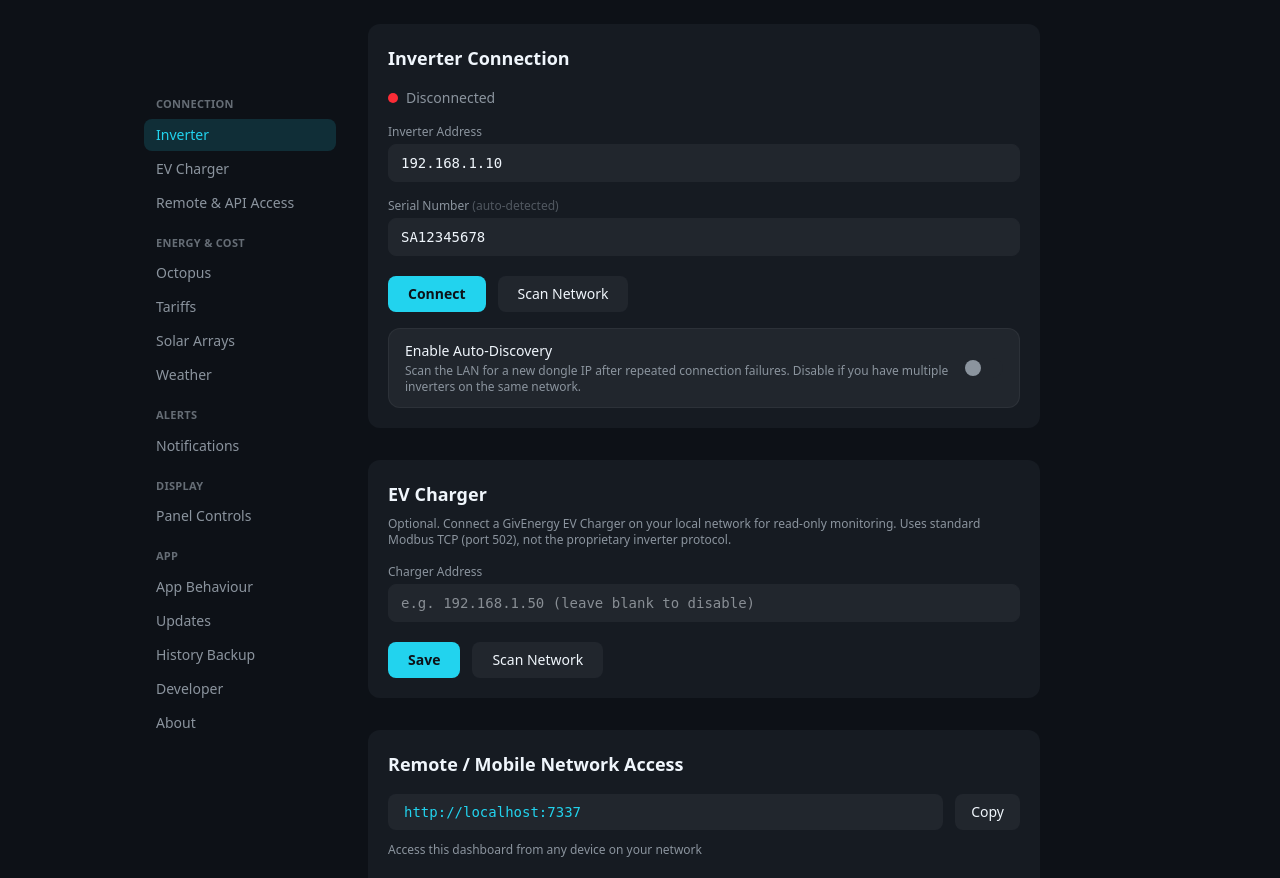
<SettingsPage/> — page shell & hydration › discover › shows the no-inverters message when discovery finds none
Click the button "Scan Network" below "Serial Number" at [563, 294], box [498,276,628,312]
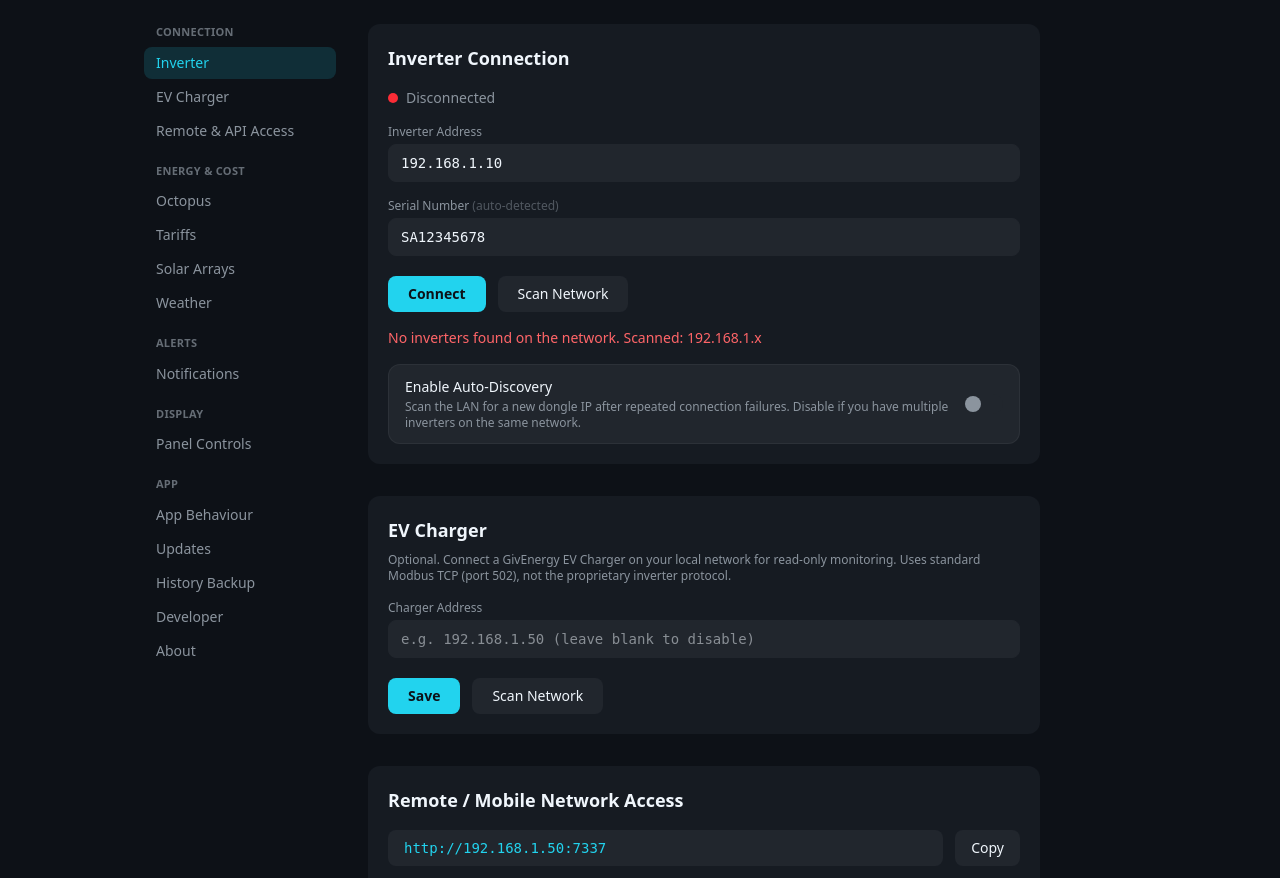
Expected: the text "No inverters found on the network. Scanned: 192.168.1.x" is shown, [388,328,762,347]
